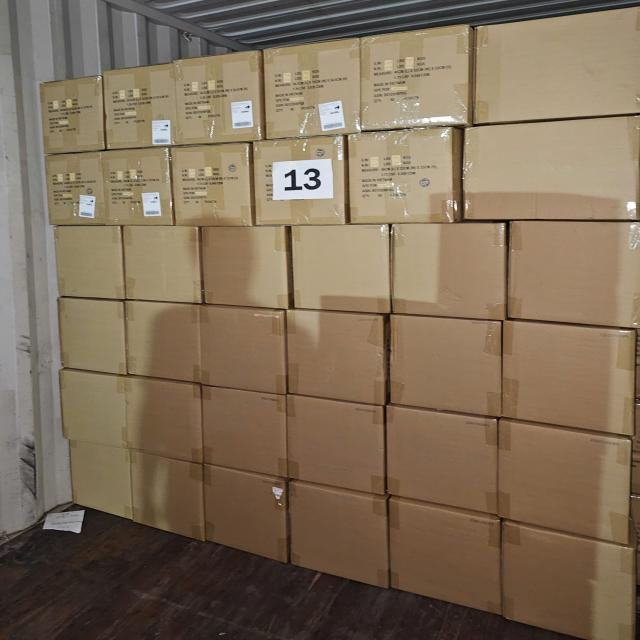Carton: (474, 6, 640, 120), (468, 118, 640, 223), (498, 414, 632, 542), (501, 520, 635, 640), (501, 320, 638, 434), (508, 221, 638, 331), (390, 497, 503, 616), (388, 400, 499, 513), (388, 313, 501, 420), (391, 224, 508, 324), (361, 25, 472, 130), (291, 480, 391, 591), (349, 128, 463, 224), (286, 391, 388, 496), (284, 313, 385, 412), (262, 37, 360, 135), (294, 226, 394, 314), (252, 138, 348, 228), (203, 462, 287, 562), (197, 306, 286, 396), (202, 383, 286, 478), (176, 56, 262, 148), (200, 224, 288, 308), (173, 142, 255, 226), (127, 374, 203, 464), (130, 450, 204, 541), (124, 300, 201, 386), (124, 222, 202, 304), (105, 68, 178, 151), (102, 147, 176, 226), (56, 298, 126, 378), (53, 226, 124, 303), (58, 370, 126, 449), (71, 444, 134, 524), (41, 79, 105, 155), (46, 150, 110, 224)
